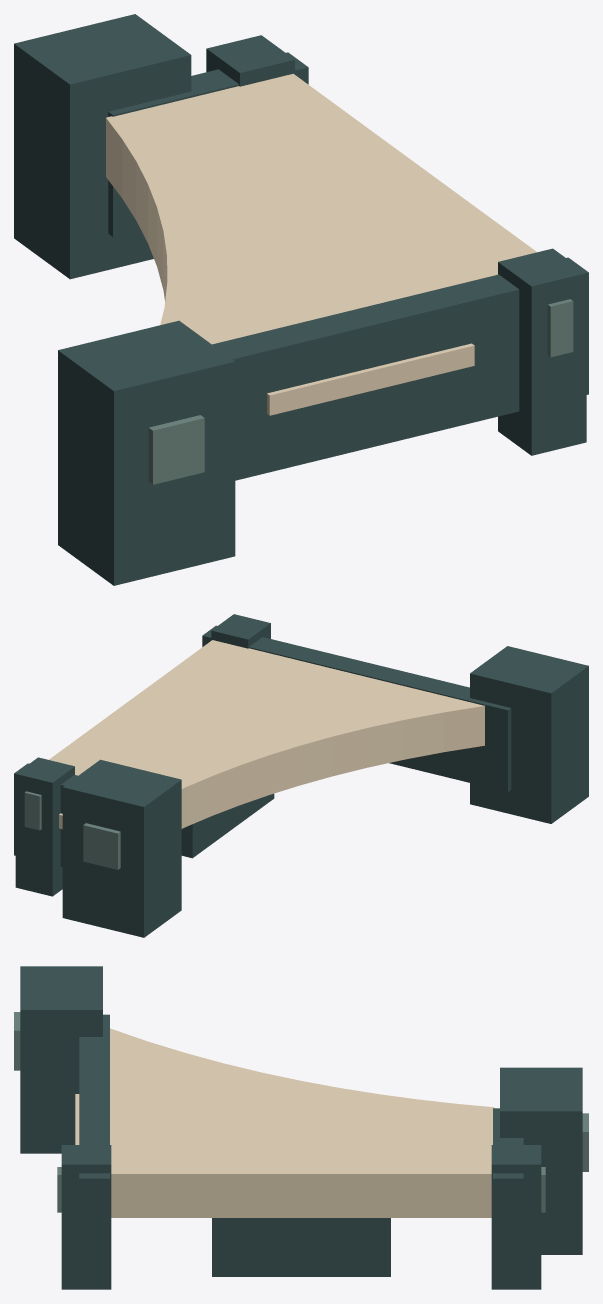
Rendered from Pier_Angled_25.glb.
3 renders of one model, top to bottom at view 1: azimuth 30°, elevation 25°; view 2: azimuth 150°, elevation 25°; view 3: azimuth 270°, elevation 25°, orthographic. The views are drawn at different scales.
Parts seen in each view (by area): view 1: Pier_Angled_25; view 2: Pier_Angled_25; view 3: Pier_Angled_25.
Boxes of the visible parts, box(x1,y1,x2,y2) form: Pier_Angled_25: box(14, 14, 588, 585); Pier_Angled_25: box(14, 614, 588, 937); Pier_Angled_25: box(14, 966, 588, 1289).
Size of the model in its own units: 3.18 by 1.15 by 4.17.
